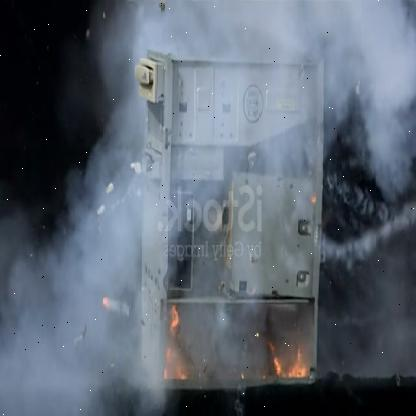fire: (158, 312, 190, 391), (264, 338, 308, 388)
smoke: (0, 0, 414, 416)
